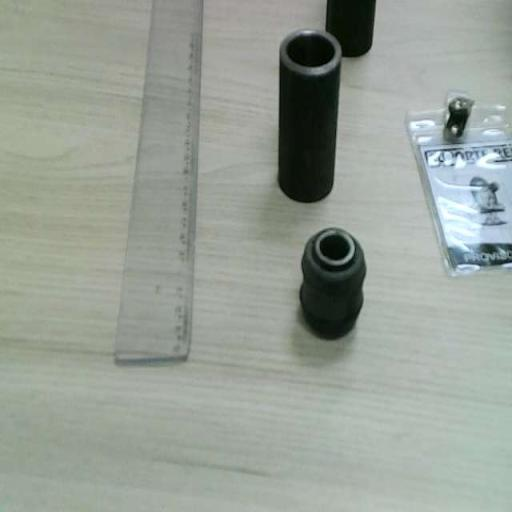peca: (300, 228, 366, 339)
